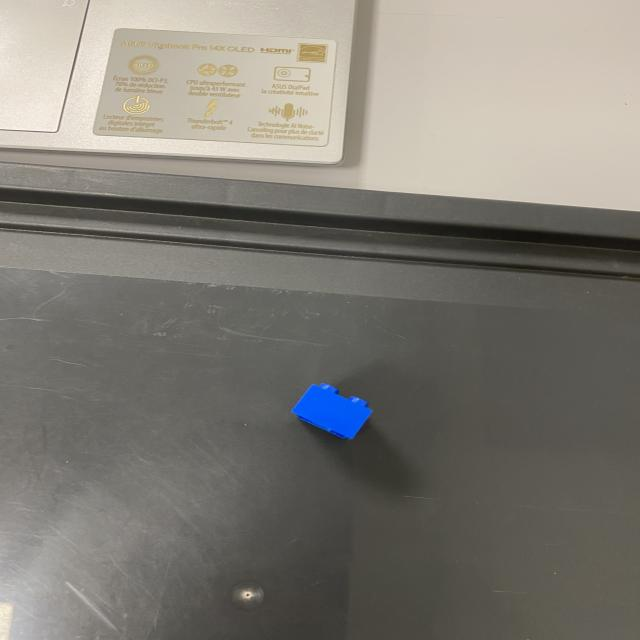C4x2x1: (289, 378, 379, 438)
